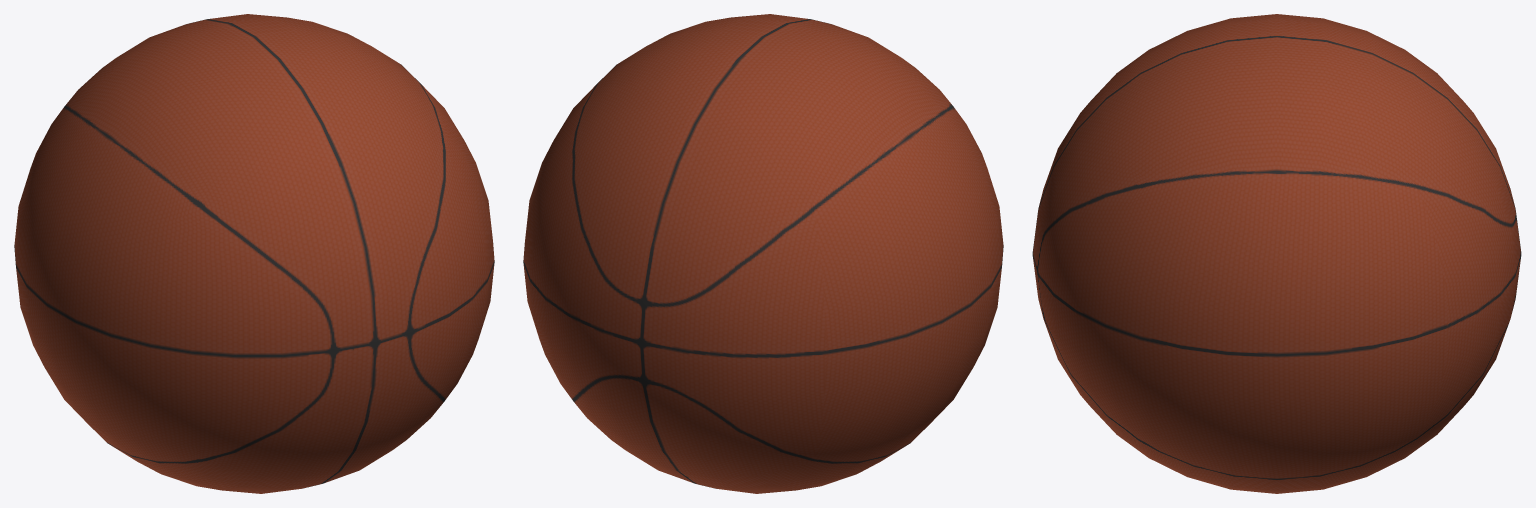
The model's file is basketball.glb.
The picture shows the model from 3 angles, left to right: view 1: azimuth 30°, elevation 25°; view 2: azimuth 150°, elevation 25°; view 3: azimuth 270°, elevation 25°; orthographic projection.
Parts seen in each view (by area): view 1: SM_Ball; view 2: SM_Ball; view 3: SM_Ball.
Part boxes in pixels (<box>): SM_Ball: <box>14,14,494,493</box>; SM_Ball: <box>523,14,1003,493</box>; SM_Ball: <box>1032,14,1521,493</box>.
Size of the model in its own units: 0.1177 by 0.1177 by 0.1198.
Materials: 1 (1 with a texture image).
